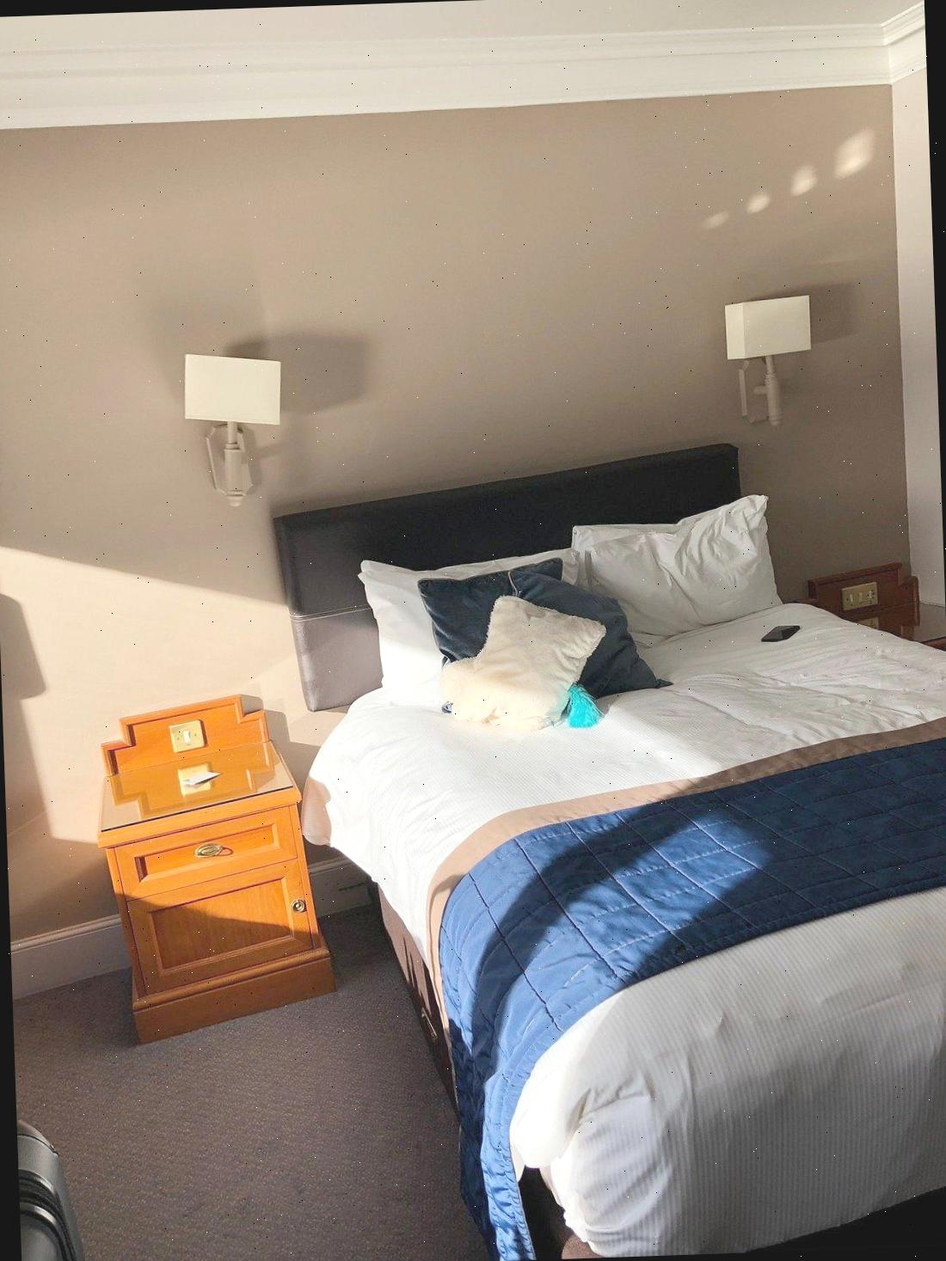Disorganized_pillow: (301, 491, 778, 737)
clean_bed: (258, 445, 946, 1259)
lamp: (682, 277, 841, 454), (151, 345, 310, 516)
organized table: (95, 700, 346, 1046)
